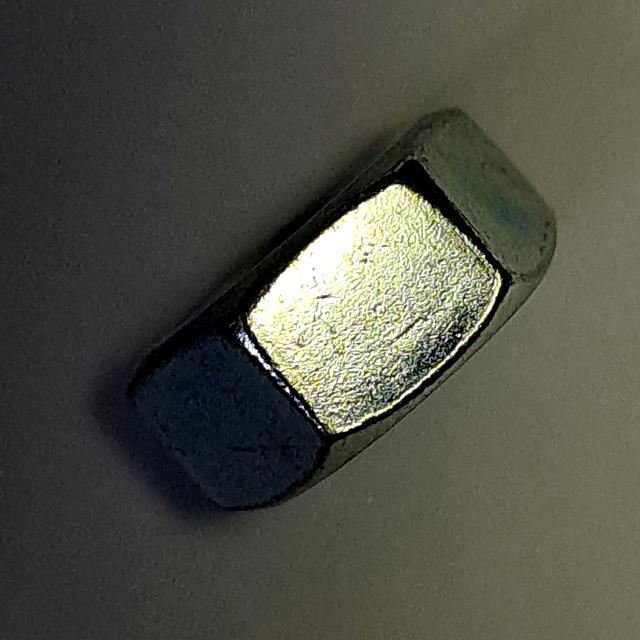Side_Excellent: (122, 92, 568, 527)
